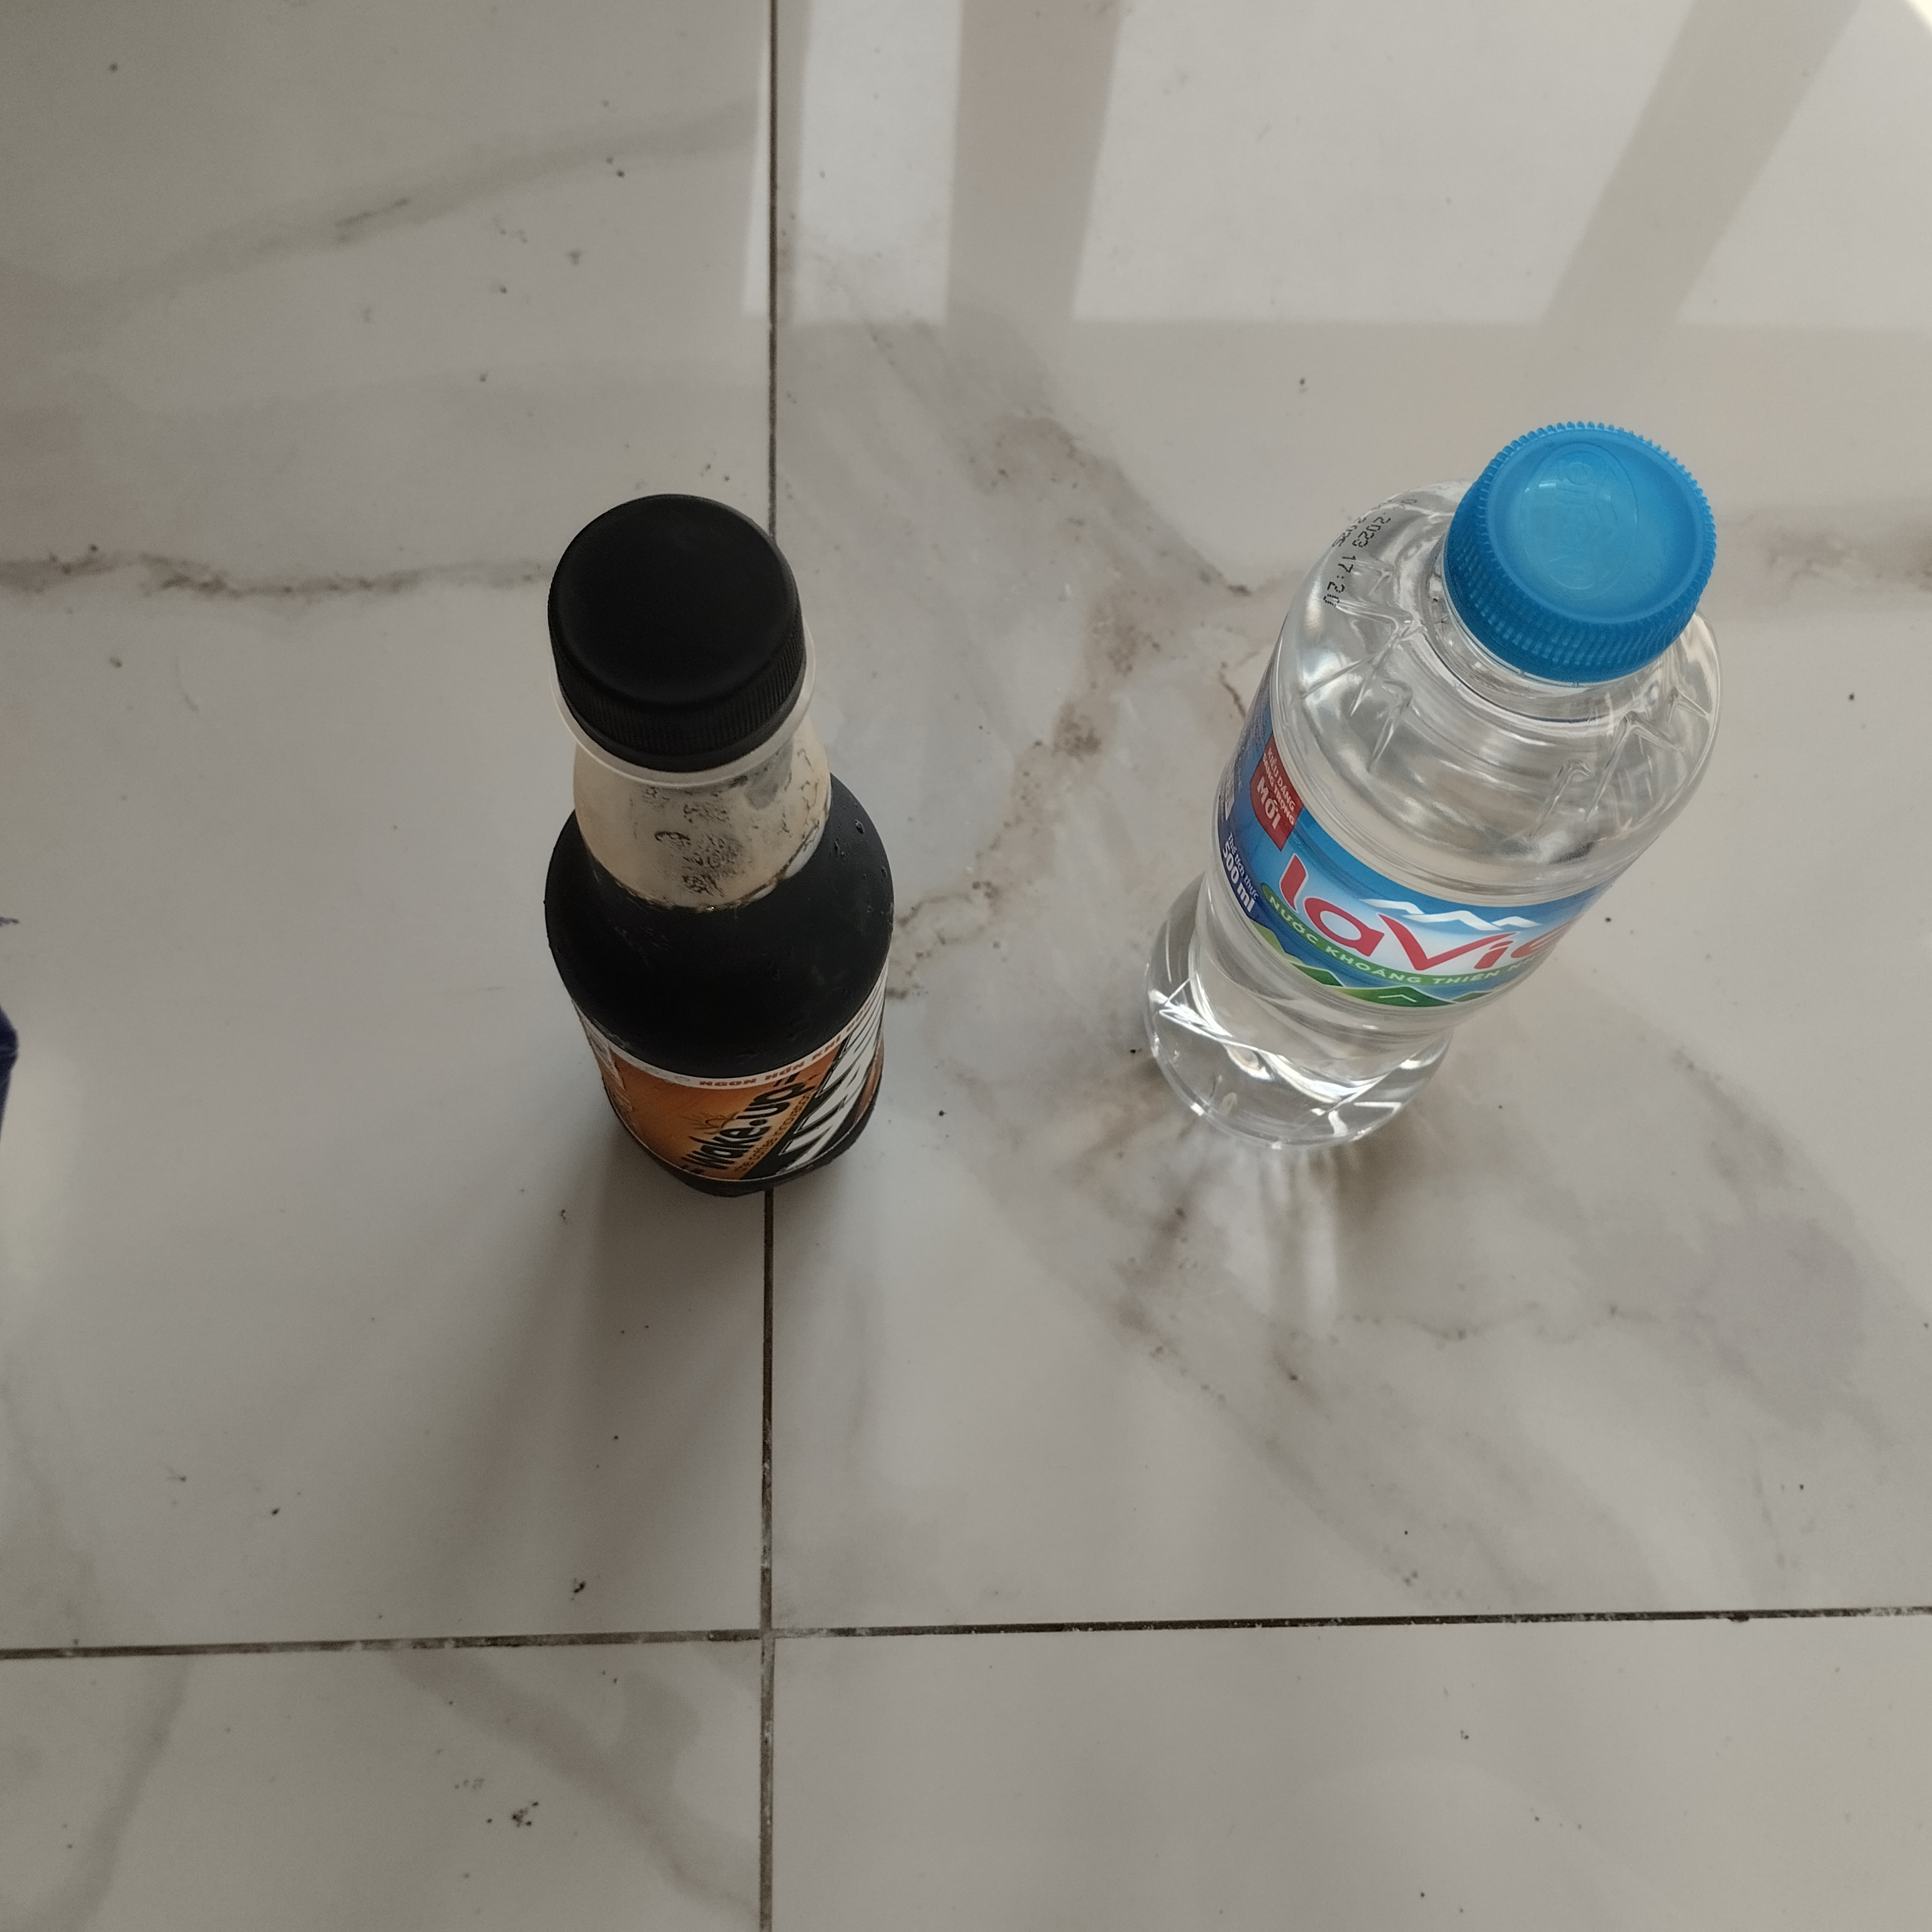247: (517, 478, 918, 1200)
Lavie: (1134, 418, 1736, 1164)
